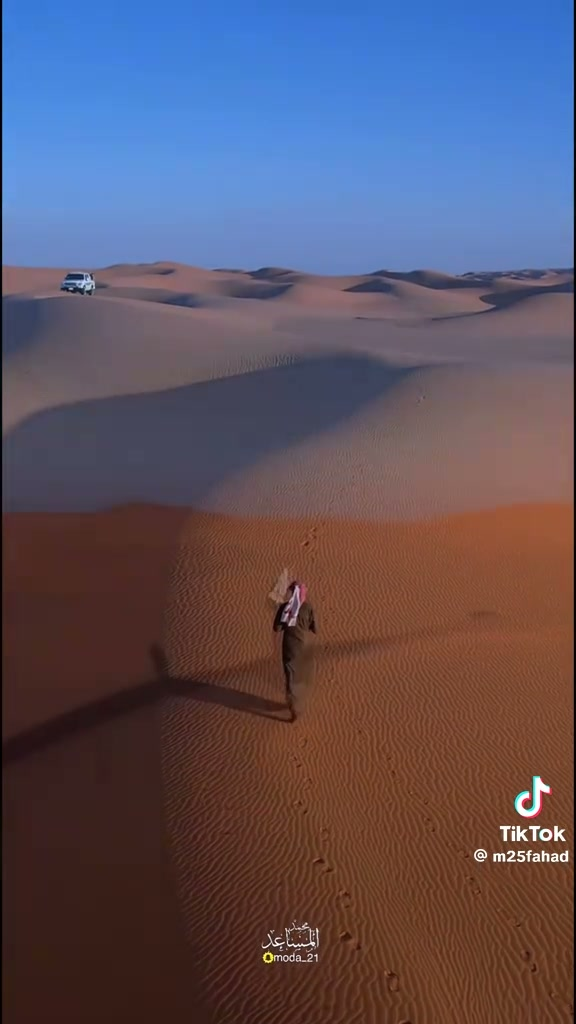human: (273, 581, 316, 721)
human_foot_print: (340, 929, 360, 950), (521, 949, 537, 972), (312, 856, 333, 873), (384, 970, 399, 992), (301, 527, 317, 547), (466, 876, 481, 895), (337, 889, 351, 908), (293, 799, 308, 814)
